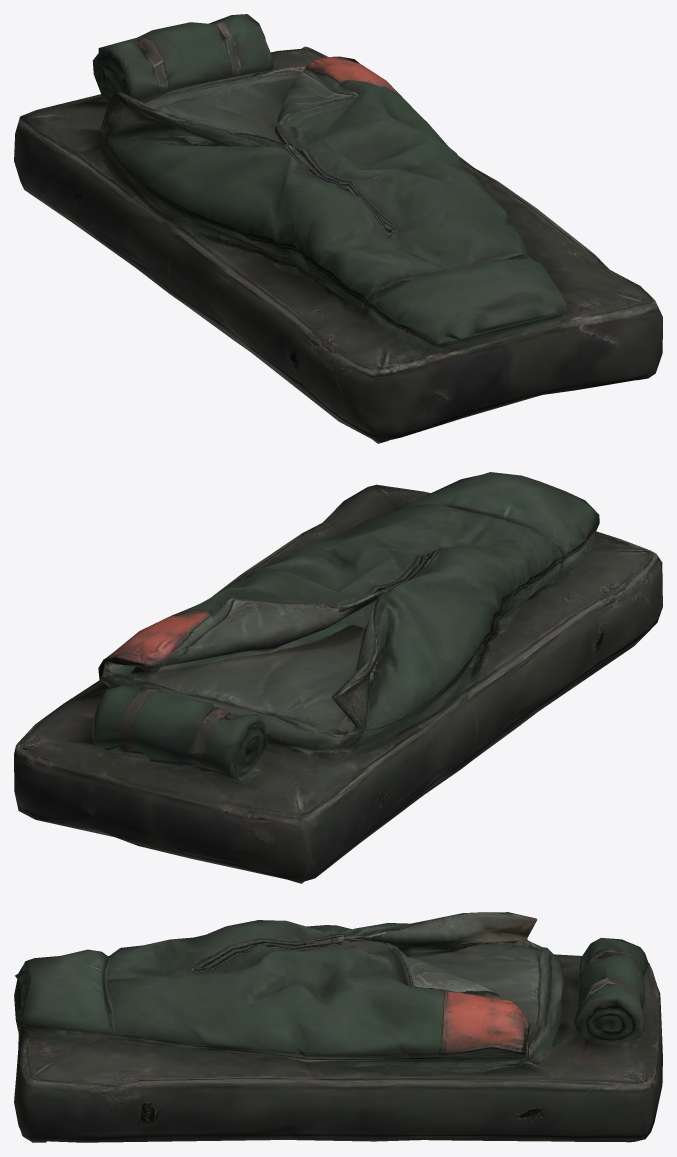
The model's file is bedroll.glb.
3 renders of one model, top to bottom at view 1: azimuth 30°, elevation 25°; view 2: azimuth 150°, elevation 25°; view 3: azimuth 270°, elevation 25°, orthographic. The views are drawn at different scales.
Parts seen in each view (by area): view 1: Mesh_0; view 2: Mesh_0; view 3: Mesh_0.
Boxes of the visible parts, x1,y1,x2,y2 form: Mesh_0: (14, 14, 662, 443); Mesh_0: (14, 472, 662, 883); Mesh_0: (14, 912, 662, 1142).
Size of the model in its own units: 0.9238 by 0.4235 by 1.89.
Materials: 1 (1 with a texture image).
